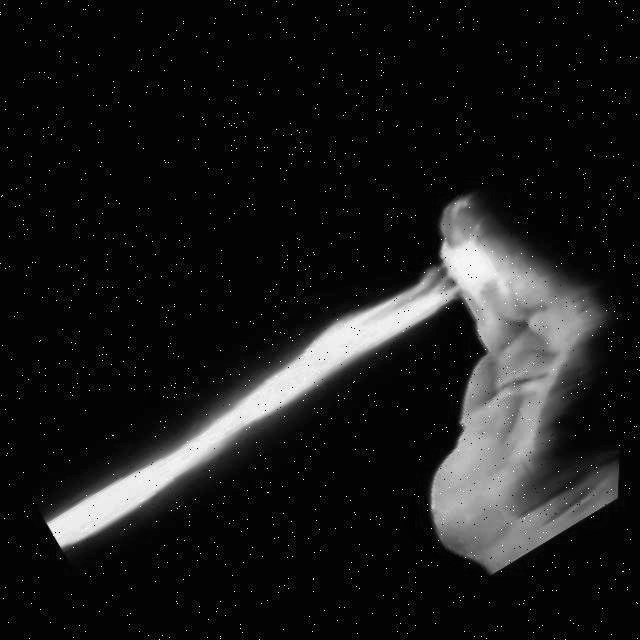Fire: (31, 220, 524, 564)
